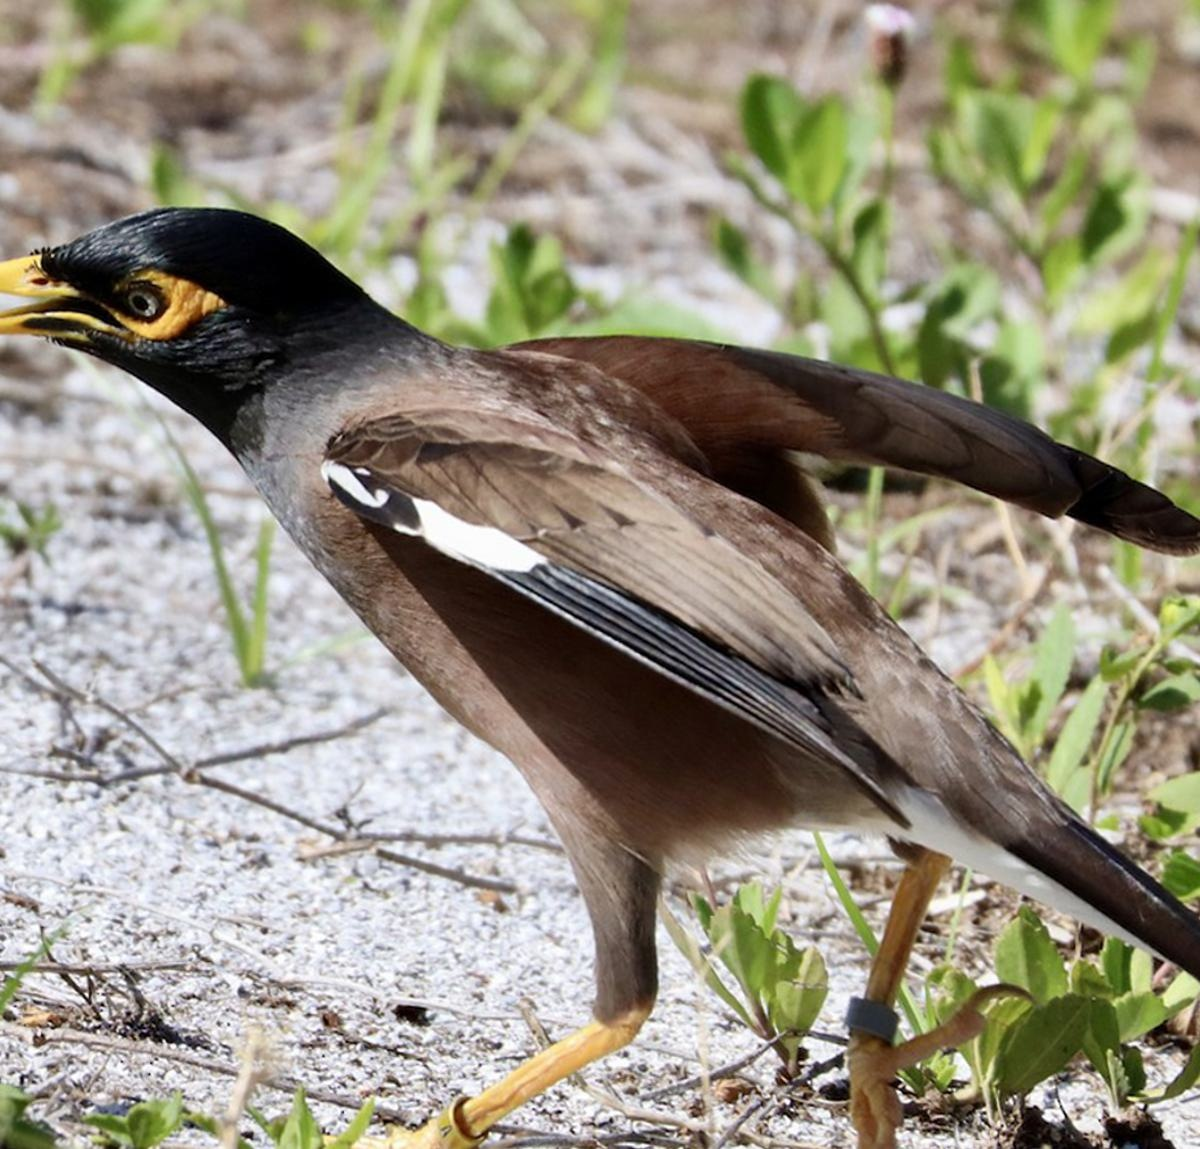myna: (2, 186, 1052, 1060)
